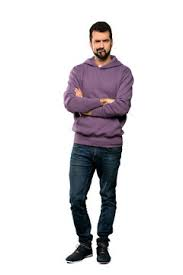person: (55, 17, 142, 268)
